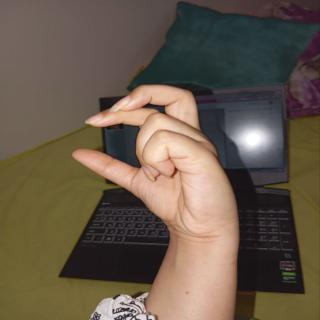DHELL: (70, 77, 248, 253)
